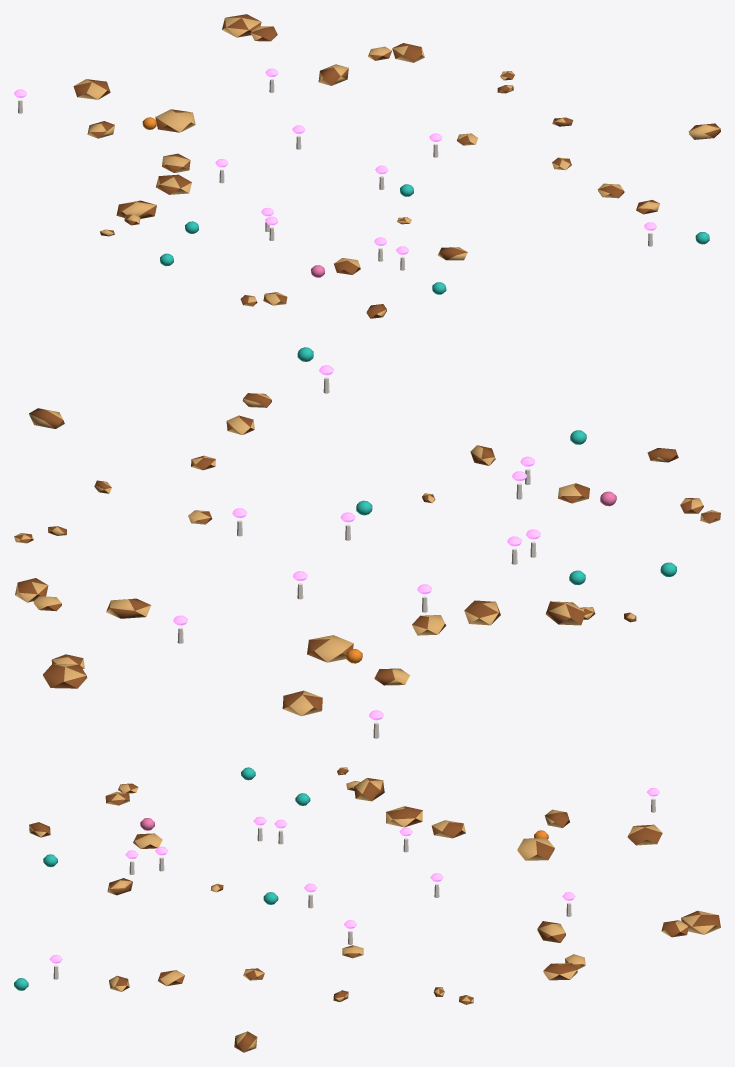
The model's file is Ground_Cookie_Debris.fbx.
3 views of the same model, one above another, from view 1: azimuth 30°, elevation 25°; view 2: azimuth 150°, elevation 25°; view 3: azimuth 270°, elevation 25° (orthographic). The views are drawn at different scales.
Parts seen in each view (by area): view 1: Ground_Cookie_Debris_Mesh; view 2: Ground_Cookie_Debris_Mesh; view 3: Ground_Cookie_Debris_Mesh.
Boxes of the visible parts, x1,y1,x2,y2 form: Ground_Cookie_Debris_Mesh: (14, 14, 720, 318); Ground_Cookie_Debris_Mesh: (14, 347, 720, 738); Ground_Cookie_Debris_Mesh: (14, 767, 720, 1052).
Bounding box in the file's own units: 3.91 × 0.147 × 4.12.
